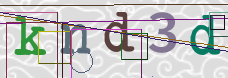3: (149, 11, 177, 54)
d: (104, 11, 136, 52), (190, 14, 221, 56)
k: (14, 15, 46, 56)
n: (60, 21, 91, 55)
